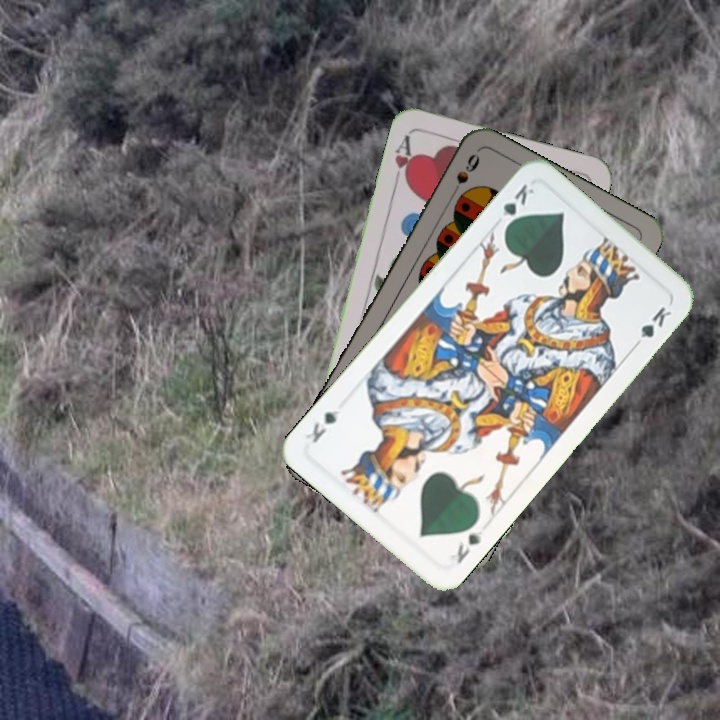GK: (496, 179, 537, 233), (452, 525, 486, 566)
HA: (390, 131, 418, 188)
S9: (445, 149, 483, 203)
